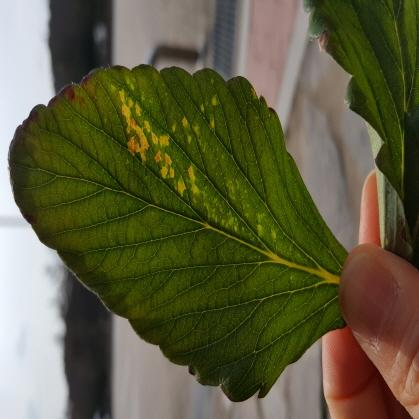Angular Leafspot: (109, 75, 288, 247)
